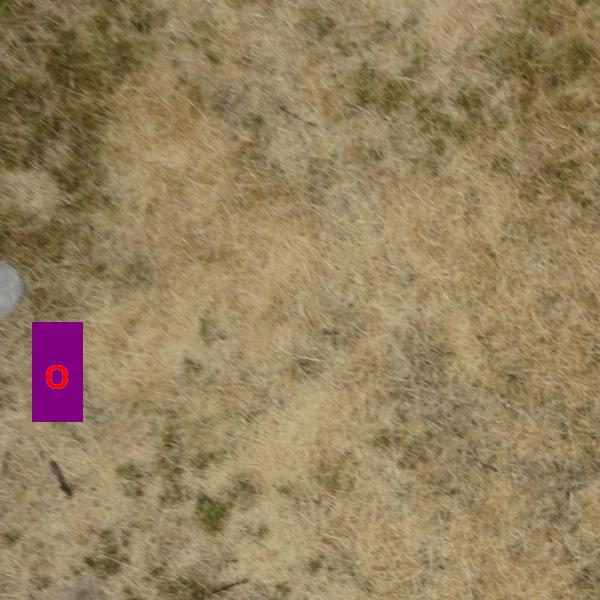Rectangle: (7, 322, 107, 422)
